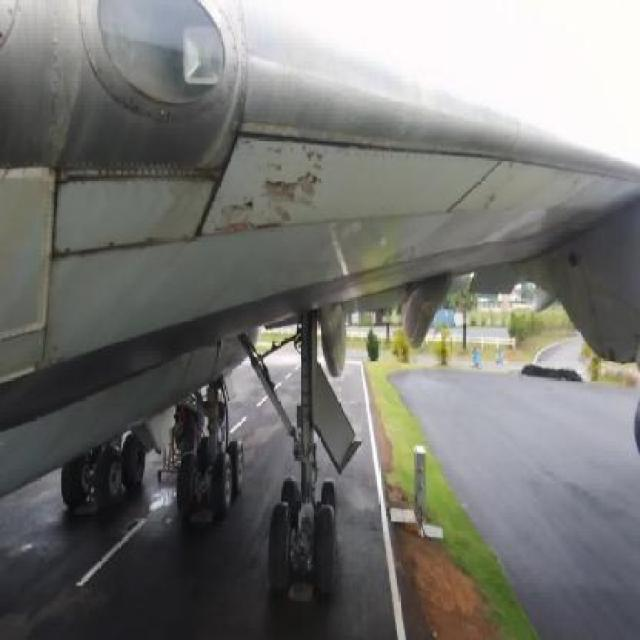Rust: (159, 208, 487, 290), (94, 206, 132, 292)
